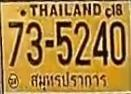0: (109, 20, 125, 64)
2: (73, 22, 91, 66)
3: (26, 21, 41, 65)
4: (92, 20, 107, 64)
5: (55, 20, 71, 64)
7: (8, 21, 24, 64)
SPK: (28, 69, 110, 92)
